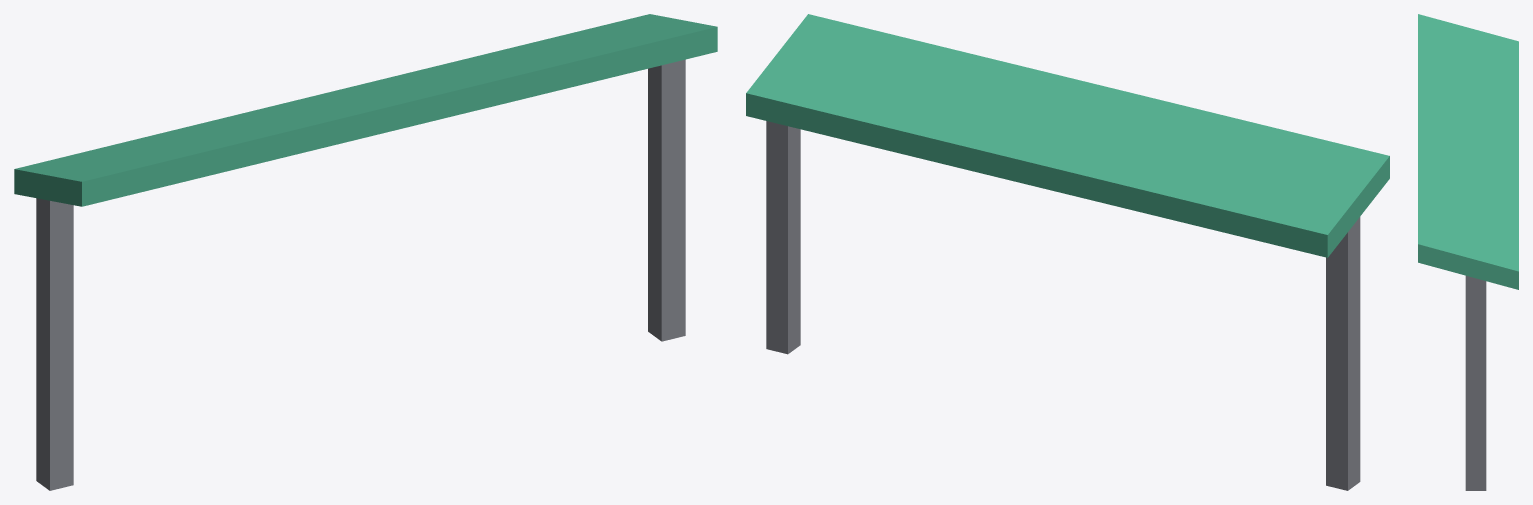
The model's file is detail_awningWide.dae.
3 views of the same model, side by side, from view 1: azimuth 30°, elevation 25°; view 2: azimuth 150°, elevation 25°; view 3: azimuth 270°, elevation 25° (orthographic). The views are drawn at different scales.
Parts seen in each view (by area): view 1: detail_awningWide; view 2: detail_awningWide; view 3: detail_awningWide.
Part boxes in pixels (bbox=[...]): detail_awningWide: bbox=[14, 14, 717, 490]; detail_awningWide: bbox=[746, 14, 1389, 490]; detail_awningWide: bbox=[1418, 14, 1518, 490].
Bounding box in the file's own units: 0.8 × 0.4 × 0.1479.
